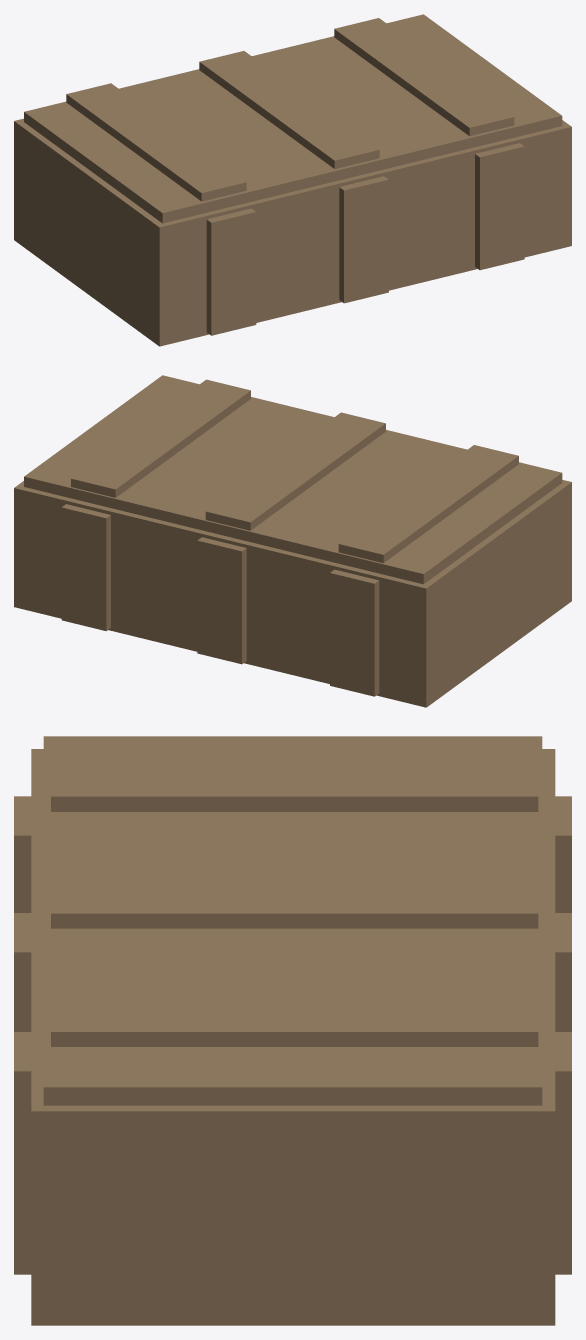
Rendered from env_MilitaryCrate.fbx.
3 views of the same model, one above another, from view 1: azimuth 30°, elevation 25°; view 2: azimuth 150°, elevation 25°; view 3: azimuth 270°, elevation 25° (orthographic). The views are drawn at different scales.
Visible parts, largest first — view 1: env_MilitaryCrateBody, env_MilitaryCrateLid; view 2: env_MilitaryCrateBody, env_MilitaryCrateLid; view 3: env_MilitaryCrateLid, env_MilitaryCrateBody.
Boxes of the visible parts, x1=… form: env_MilitaryCrateBody: x1=14, y1=118, x2=571, y2=346; env_MilitaryCrateLid: x1=24, y1=14, x2=562, y2=223; env_MilitaryCrateBody: x1=14, y1=480, x2=571, y2=707; env_MilitaryCrateLid: x1=24, y1=375, x2=562, y2=584; env_MilitaryCrateLid: x1=43, y1=736, x2=542, y2=1105; env_MilitaryCrateBody: x1=14, y1=749, x2=571, y2=1325.
Bounding box in the file's own units: 120 × 38.4 × 78.31.
